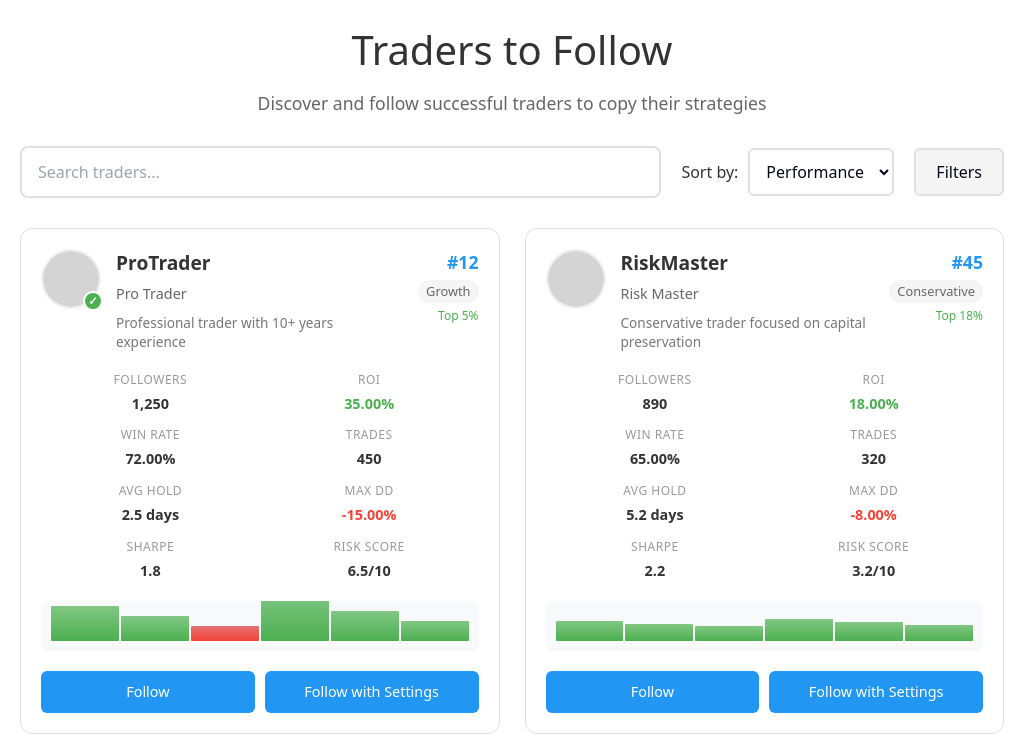
Test: TradersToFollow › Accessibility › should announce status changes to screen readers
The width and height of the screenshot is (1024, 740).
Expected: the heading "ProTrader" is shown, [116,249,210,276]
Click the 1st button "Follow". click: (148, 692)
box: [41,671,255,713]
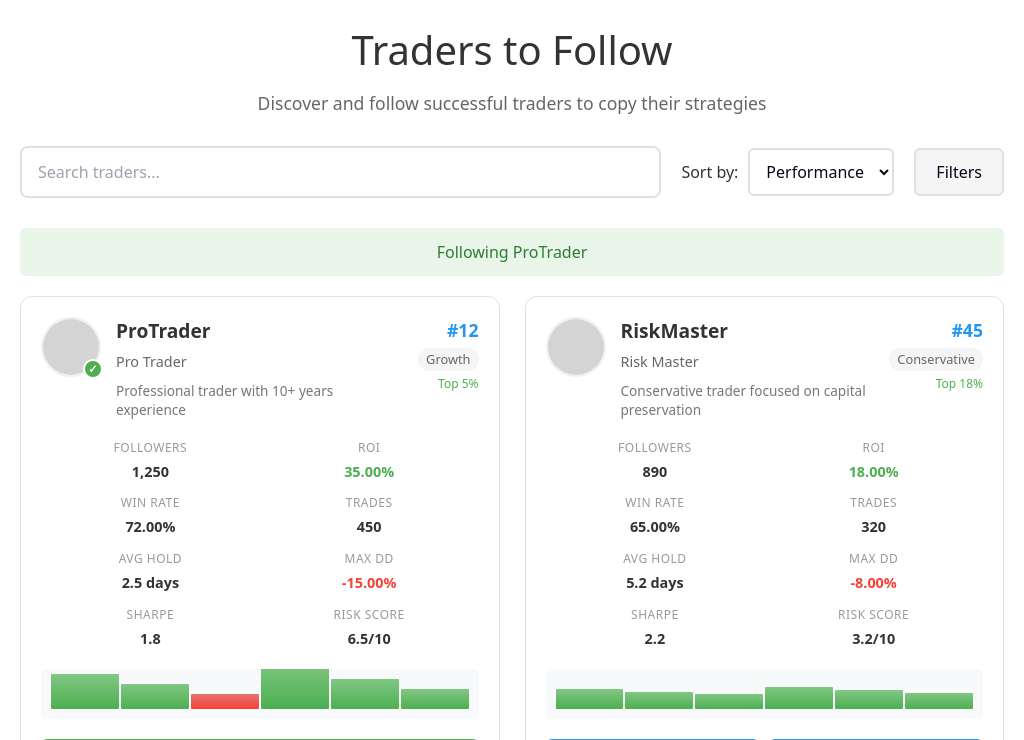
Result: the message reads "Following ProTrader" at [437,241,587,263]
